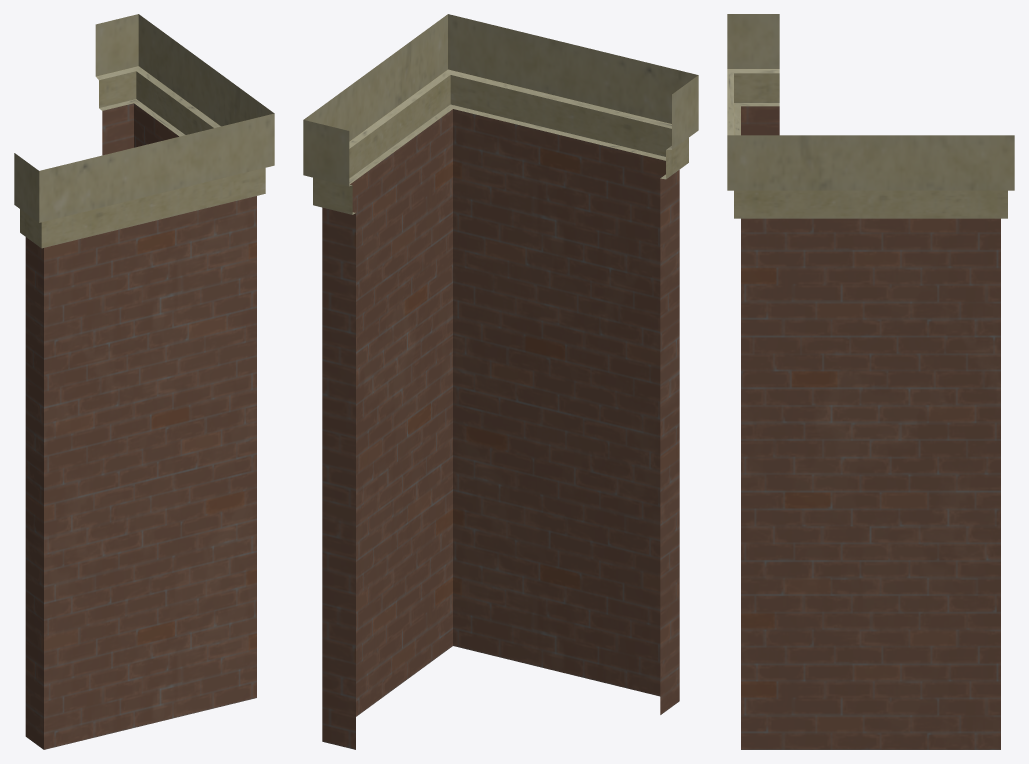
File: brick_cornercolumn_top.glb
3 views of the same model, side by side, from view 1: azimuth 30°, elevation 25°; view 2: azimuth 150°, elevation 25°; view 3: azimuth 270°, elevation 25° (orthographic). The views are drawn at different scales.
Parts seen in each view (by area): view 1: Brick_CornerColumn_Top; view 2: Brick_CornerColumn_Top; view 3: Brick_CornerColumn_Top.
Part boxes in pixels (x1,y1,x2,y2): Brick_CornerColumn_Top: (14, 14, 274, 749); Brick_CornerColumn_Top: (303, 14, 698, 749); Brick_CornerColumn_Top: (727, 14, 1014, 749).
Size of the model in its own units: 1.26 by 3 by 1.26.
2 materials, 2 textured.
